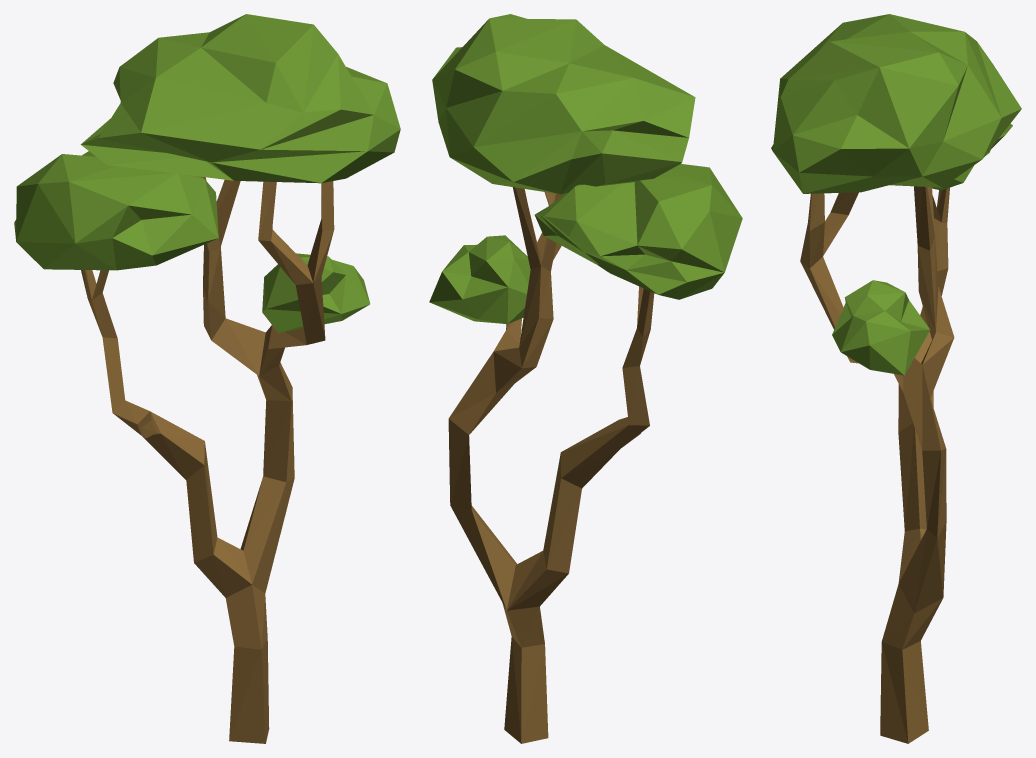
File: Env_Tree05.fbx
3 renders of one model, left to right at view 1: azimuth 30°, elevation 25°; view 2: azimuth 150°, elevation 25°; view 3: azimuth 270°, elevation 25°, orthographic. The views are drawn at different scales.
Parts seen in each view (by area): view 1: Env_Tree05; view 2: Env_Tree05; view 3: Env_Tree05.
Boxes of the visible parts, x1,y1,x2,y2 form: Env_Tree05: (14, 14, 400, 743); Env_Tree05: (429, 14, 742, 743); Env_Tree05: (771, 14, 1021, 743).
Bounding box in the file's own units: 223 × 468 × 154.
1 material, 1 textured.
